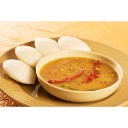idly: (3, 58, 37, 85), (57, 36, 91, 50), (15, 46, 40, 64), (34, 37, 59, 52)
